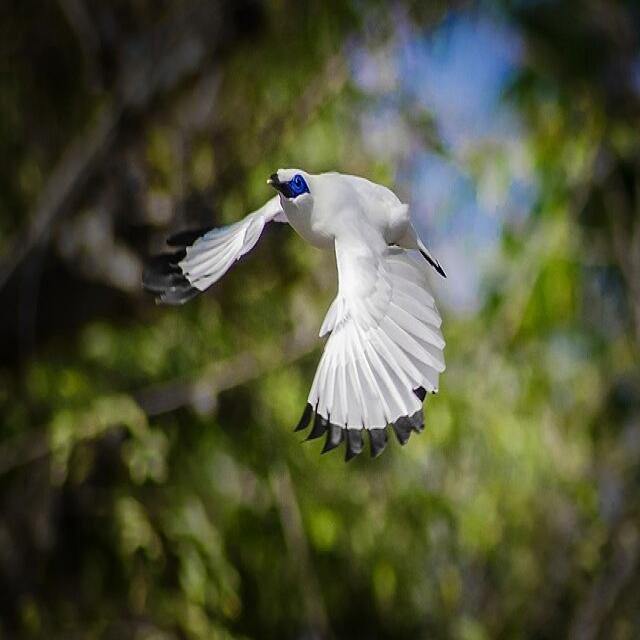Jalak Bali: (119, 111, 468, 471)
